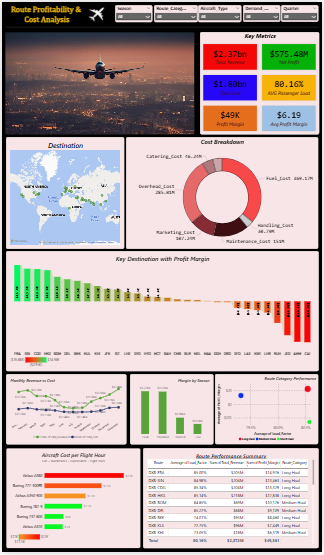

Layout of this report page (visuals, bound fields, positions):
{"tool":"powerbi","page":{"name":"Page 1","canvas":[1280,2200],"ordinal":0},"visuals":[{"type":"image","box":[314.4,0,123.3,98.9],"z":0},{"type":"cardVisual","title":"Key Metrics","fields":{"Data":["Sum(airline_route_profitability.Total_Revenue)","Sum(airline_route_profitability.Total_Cost)","Sum(airline_route_profitability.Profit_Margin)","Sum(airline_route_profitability.Profit)","Avg(airline_route_profitability.Load_Factor)","Avg(airline_route_profitability.Profit_Margin)"]},"box":[790,121.1,476.7,410],"z":1000},{"type":"donutChart","title":"Cost Breakdown","fields":{"Y":["Sum(airline_route_profitability.Fuel_Cost)","Sum(airline_route_profitability.Handling_Cost)","Sum(airline_route_profitability.Maintenance_Cost)","Sum(airline_route_profitability.Marketing_Cost)","Sum(airline_route_profitability.Overhead_Cost)","Sum(airline_route_profitability.Catering_Cost)","Sum(airline_route_profitability.Airport_Fees)"]},"box":[497.8,538.9,768.9,447.8],"z":2000},{"type":"ribbonChart","title":"Key Destination with  Profit Margin","fields":{"Category":["airline_route_profitability.Destination"],"Y":["Sum(airline_route_profitability.Profit_Margin)"]},"box":[15.6,995.6,1251.1,481.1],"z":3000},{"type":"map","fields":{"Category":["airline_route_profitability.Destination"]},"box":[15.6,538.9,473.3,447.8],"z":4000},{"type":"image","box":[13.3,121.1,757.8,410],"z":5000},{"type":"lineChart","title":"Monthly Revenue vs Cost","fields":{"Category":["airline_route_profitability.Flight_Date.Variation.Date Hierarchy.Month"],"Y":["Sum(airline_route_profitability.Total_Revenue)","Sum(airline_route_profitability.Total_Cost)"]},"box":[15.9,1488.6,481.8,281.8],"z":6000},{"type":"columnChart","title":"Margin by Season","fields":{"Category":["airline_route_profitability.Season"],"Y":["Sum(airline_route_profitability.Profit)"]},"box":[510.2,1488.6,334.1,281.8],"z":7000},{"type":"scatterChart","title":"Route Category Performance","fields":{"Series":["airline_route_profitability.Route_Category"],"Size":["Sum(airline_route_profitability.Passengers)"],"X":["Avg(airline_route_profitability.Load_Factor)"],"Y":["Avg(airline_route_profitability.Profit_Margin)"]},"box":[853.3,1488.9,413.3,281.1],"z":8000},{"type":"slicer","fields":{"Values":["airline_route_profitability.Route_Category"]},"box":[606.2,11.5,175.7,68.6],"z":9000},{"type":"textbox","box":[15.9,10.2,327.3,76.1],"z":10000},{"type":"slicer","fields":{"Values":["airline_route_profitability.Aircraft_Type"]},"box":[785.3,11.5,174.3,68.6],"z":11000},{"type":"slicer","fields":{"Values":["airline_route_profitability.Demand_Level"]},"box":[962.9,11.8,150,68],"z":12000},{"type":"slicer","fields":{"Values":["airline_route_profitability.Season"]},"box":[452.9,11.4,150,68.6],"z":13000},{"type":"slicer","fields":{"Values":["airline_route_profitability.Flight_Date.Variation.Date Hierarchy.Quarter"]},"box":[1116.2,11.8,150,68],"z":14000},{"type":"clusteredBarChart","title":"Aircraft Cost per Flight Hour","fields":{"Category":["airline_route_profitability.Aircraft_Type"],"Y":["airline_route_profitability.Cost per Flight Hour"]},"box":[15.6,1783.3,538.9,401.1],"z":15000},{"type":"tableEx","title":"Route Performance Summary","fields":{"Values":["airline_route_profitability.Route","Avg(airline_route_profitability.Load_Factor)","Sum(airline_route_profitability.Total_Revenue)","Sum(airline_route_profitability.Profit_Margin)","airline_route_profitability.Route_Category"]},"box":[563.3,1783.3,703.3,401.1],"z":16000},{"type":"shape","box":[15.6,80,1251.1,41.1],"z":17000}]}

Visuals, with their boxes in screenshot pixels (x1, y1, x2, y2), scaled from the page's 1280x2200 canvas onto the 324x555 screenshot:
image: region(80, 0, 111, 25)
"Key Metrics" cardVisual: region(200, 31, 321, 134)
"Cost Breakdown" donutChart: region(126, 136, 321, 249)
"Key Destination with  Profit Margin" ribbonChart: region(4, 251, 321, 373)
map - airline_route_profitability.Destination: region(4, 136, 124, 249)
image: region(3, 31, 195, 134)
"Monthly Revenue vs Cost" lineChart: region(4, 376, 126, 447)
"Margin by Season" columnChart: region(129, 376, 214, 447)
"Route Category Performance" scatterChart: region(216, 376, 321, 447)
slicer - airline_route_profitability.Route_Category: region(153, 3, 198, 20)
textbox: region(4, 3, 87, 22)
slicer - airline_route_profitability.Aircraft_Type: region(199, 3, 243, 20)
slicer - airline_route_profitability.Demand_Level: region(244, 3, 282, 20)
slicer - airline_route_profitability.Season: region(115, 3, 153, 20)
slicer - airline_route_profitability.Flight_Date.Variation.Date Hierarchy.Quarter: region(283, 3, 321, 20)
"Aircraft Cost per Flight Hour" clusteredBarChart: region(4, 450, 140, 551)
"Route Performance Summary" tableEx: region(143, 450, 321, 551)
shape: region(4, 20, 321, 31)
